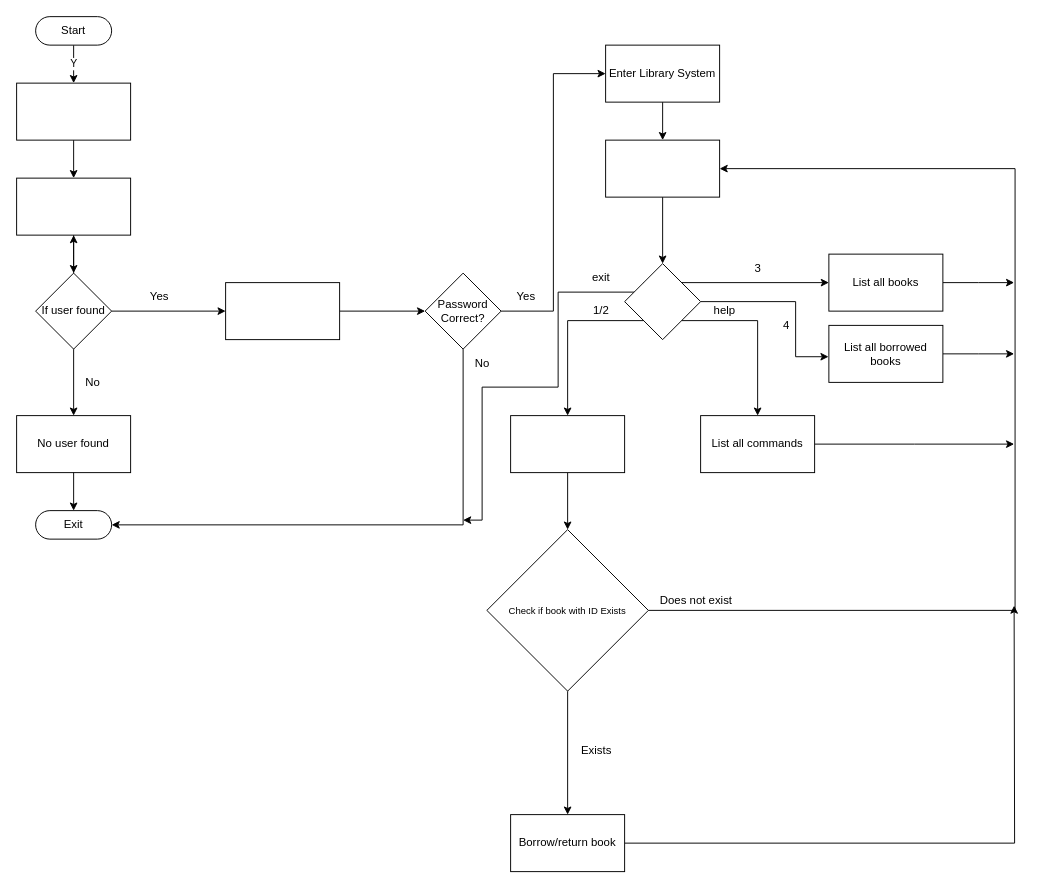
The diagram is 1039 pixels wide and 888 high, and some of its shapes have lost their labels. The centre of each missing label's shape, as x and y in pixels:
Ask for book ID: the point at 567,444
Ask for command: the point at 662,168
Ask for password: the point at 282,311
Ask for user email: the point at 73,111
Command: the point at 662,301
Find user in list of users: the point at 73,206
